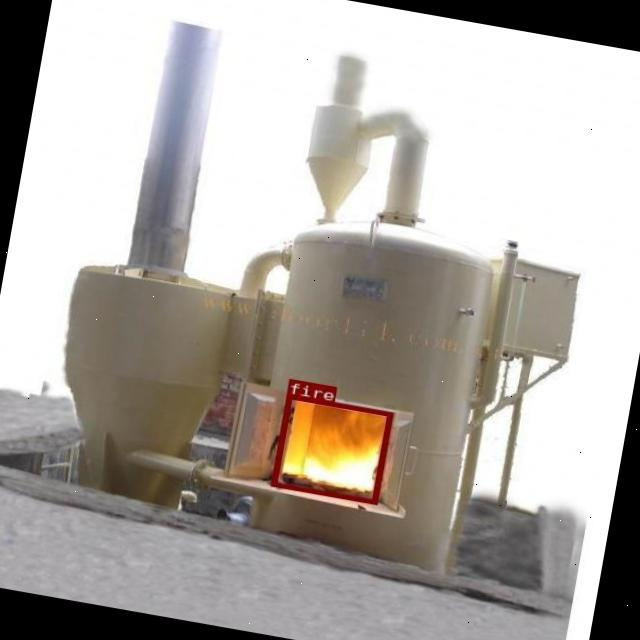fire: (270, 393, 392, 502)
